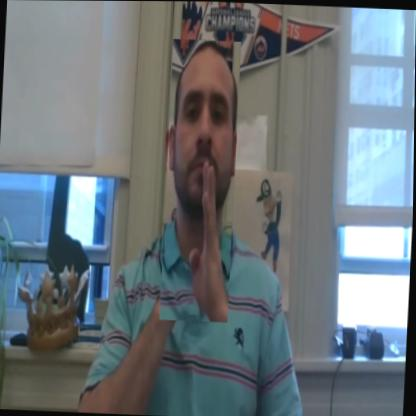Talk: (161, 39, 241, 322)
